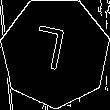L_S: (35, 24, 75, 80)
